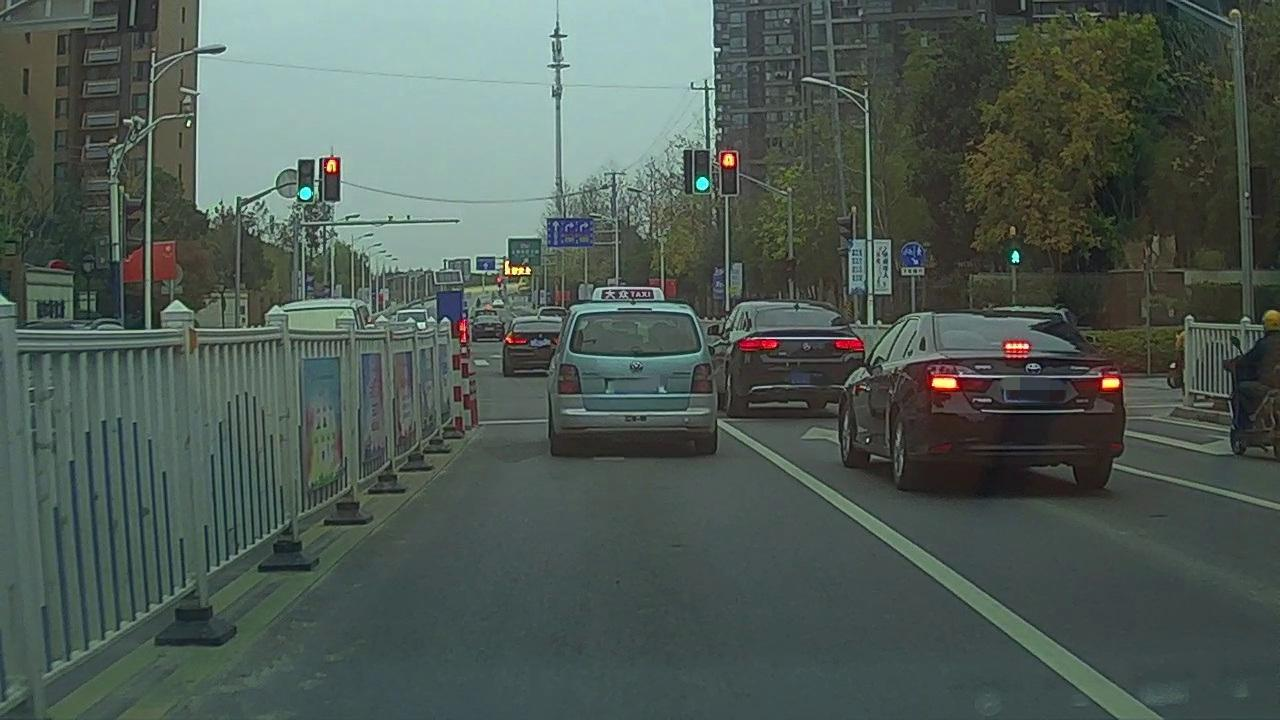traffic_light: (694, 152, 711, 195), (324, 159, 340, 202), (722, 153, 737, 195), (298, 159, 312, 203)
